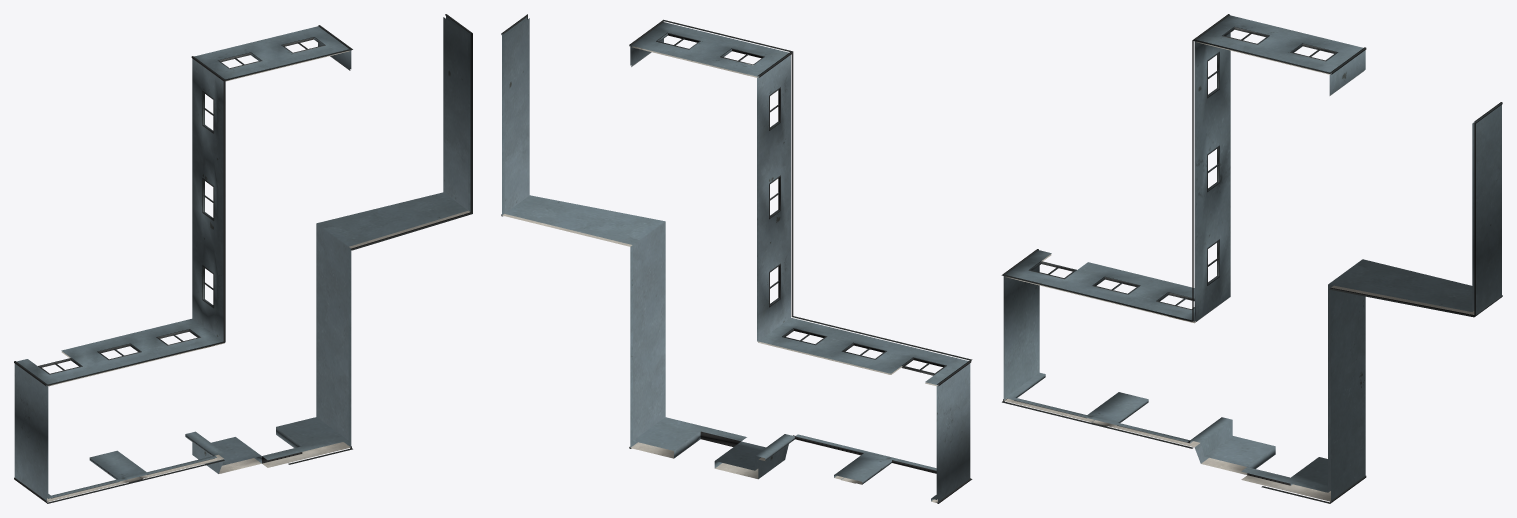
The model's file is warehouse.obj.
3 views of the same model, side by side, from view 1: azimuth 30°, elevation 25°; view 2: azimuth 150°, elevation 25°; view 3: azimuth 330°, elevation 25° (orthographic). The views are drawn at different scales.
Bounding box in the file's own units: 17.06 × 15.06 × 2.3.
Materials: 1 (1 with a texture image).
